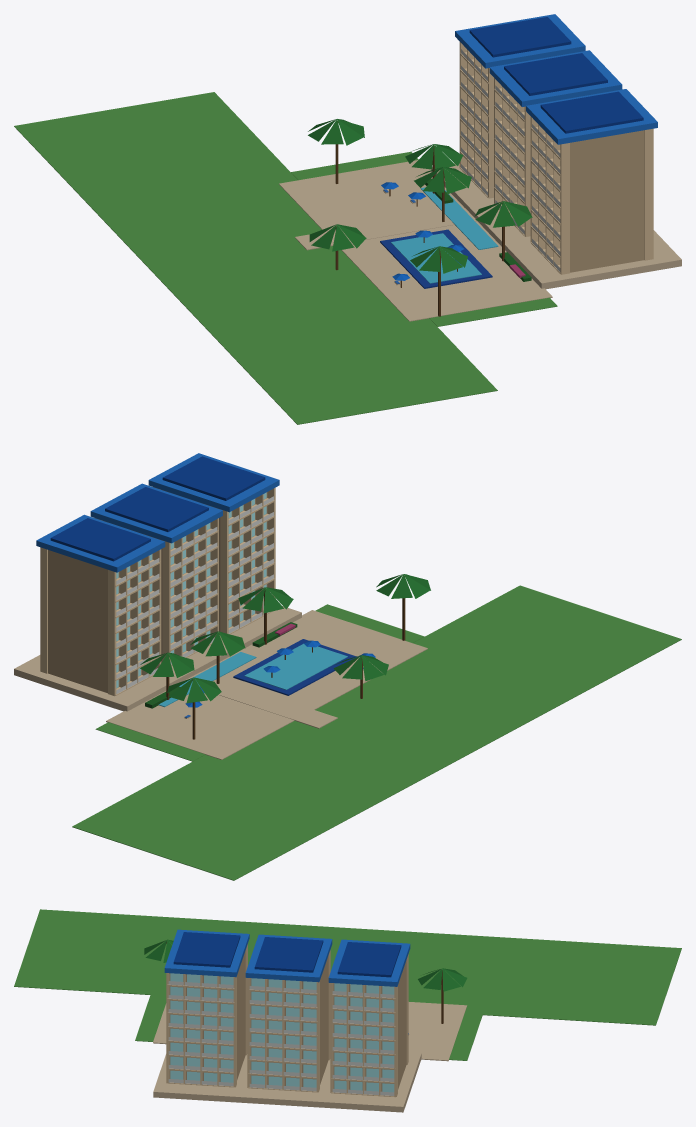
Rendered from blue_residences.glb.
3 views of the same model, one above another, from view 1: azimuth 30°, elevation 25°; view 2: azimuth 150°, elevation 25°; view 3: azimuth 270°, elevation 25° (orthographic). The views are drawn at different scales.
Visible parts, largest first — view 1: blue_residences_lod0; view 2: blue_residences_lod0; view 3: blue_residences_lod0.
Boxes of the visible parts, box(x1,y1,x2,y2) form: blue_residences_lod0: box(14, 14, 681, 424); blue_residences_lod0: box(14, 453, 681, 880); blue_residences_lod0: box(14, 909, 681, 1112).
Size of what is drawn, in the model's own units: 104 by 29.85 by 145.
